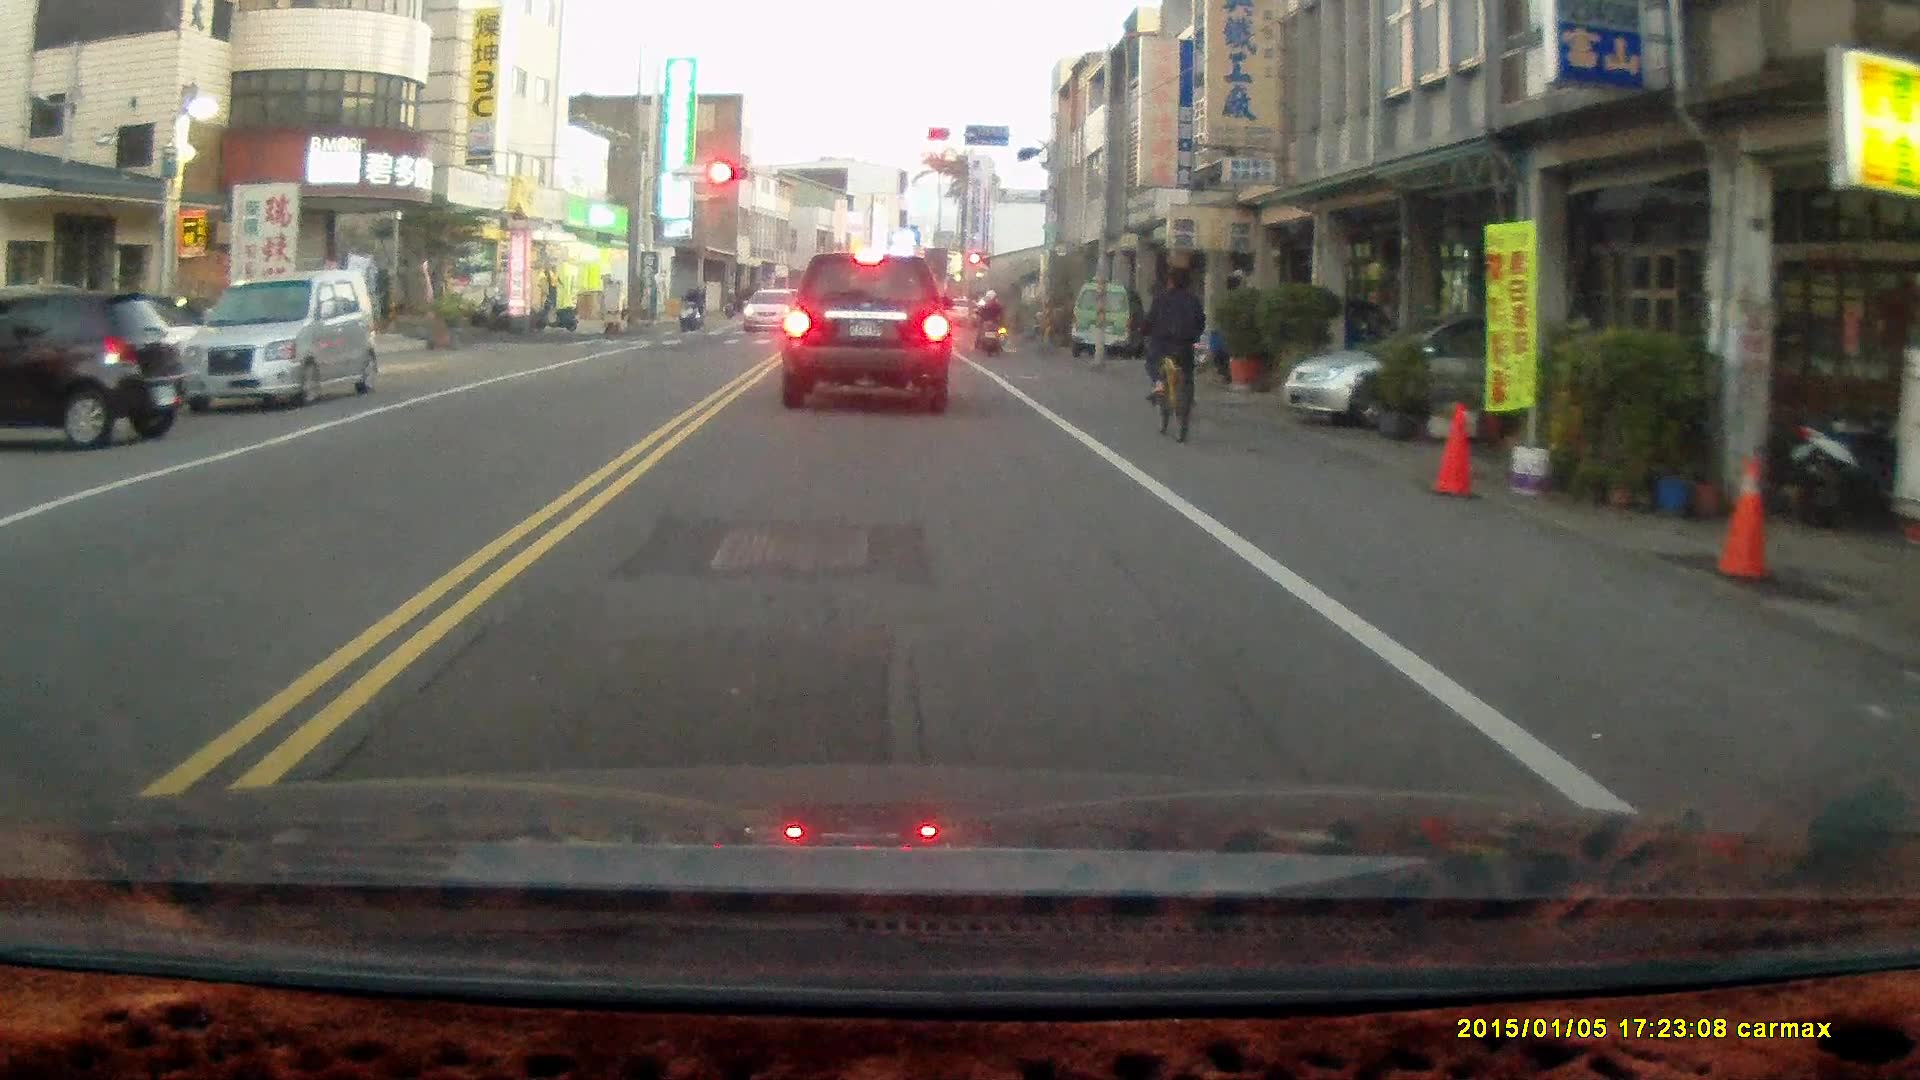rider: (1139, 265, 1206, 443), (974, 284, 1010, 355), (675, 283, 700, 333)
vehicle: (1279, 314, 1620, 429), (1, 287, 194, 448), (179, 269, 380, 415), (778, 250, 955, 413), (1067, 286, 1140, 362)
